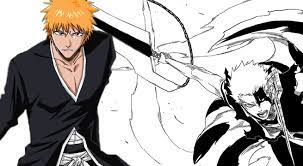Ichigo: (228, 63, 279, 120), (45, 2, 92, 60)
